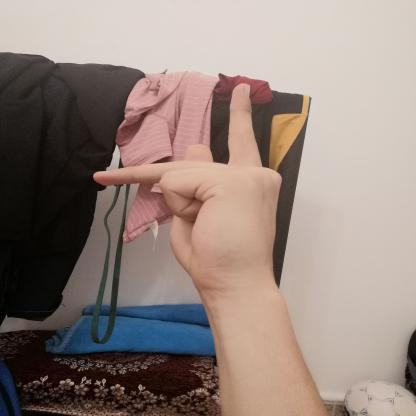DHAA: (76, 73, 293, 298)
